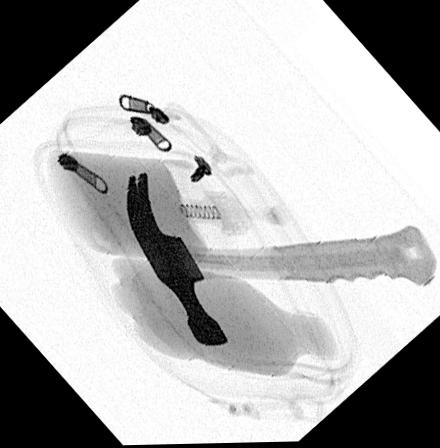Hammer: (125, 172, 439, 349)
